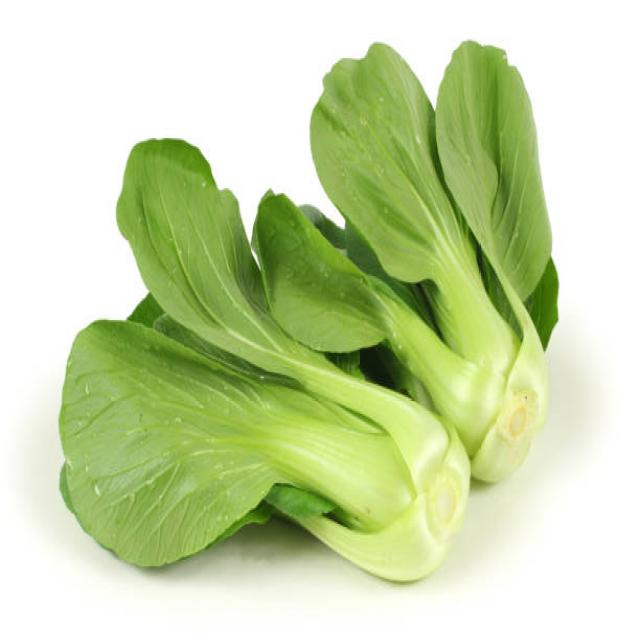Bok Choy: (0, 165, 364, 617), (420, 64, 587, 453)
